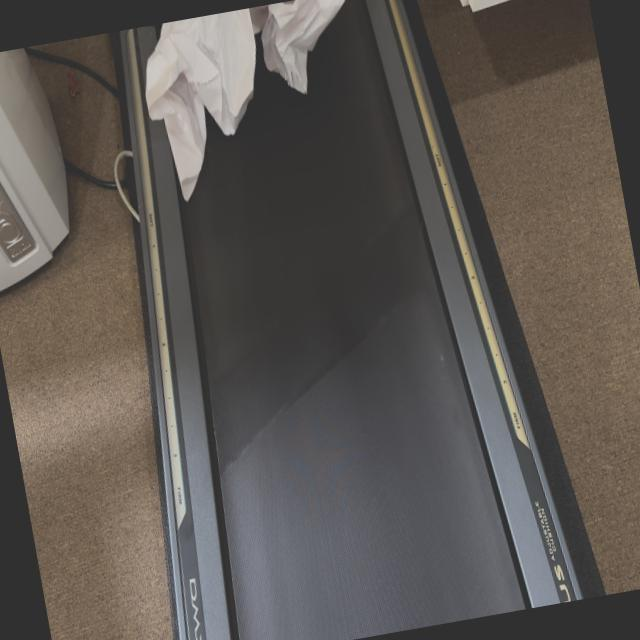Recycle: (131, 0, 387, 206)
